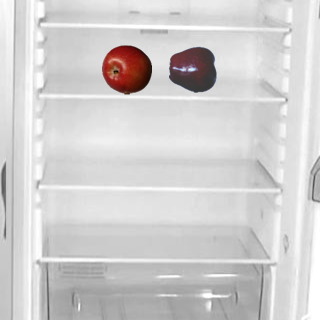Apple Braeburn: (101, 44, 151, 94)
Apple Red Delicious: (168, 44, 218, 94)
